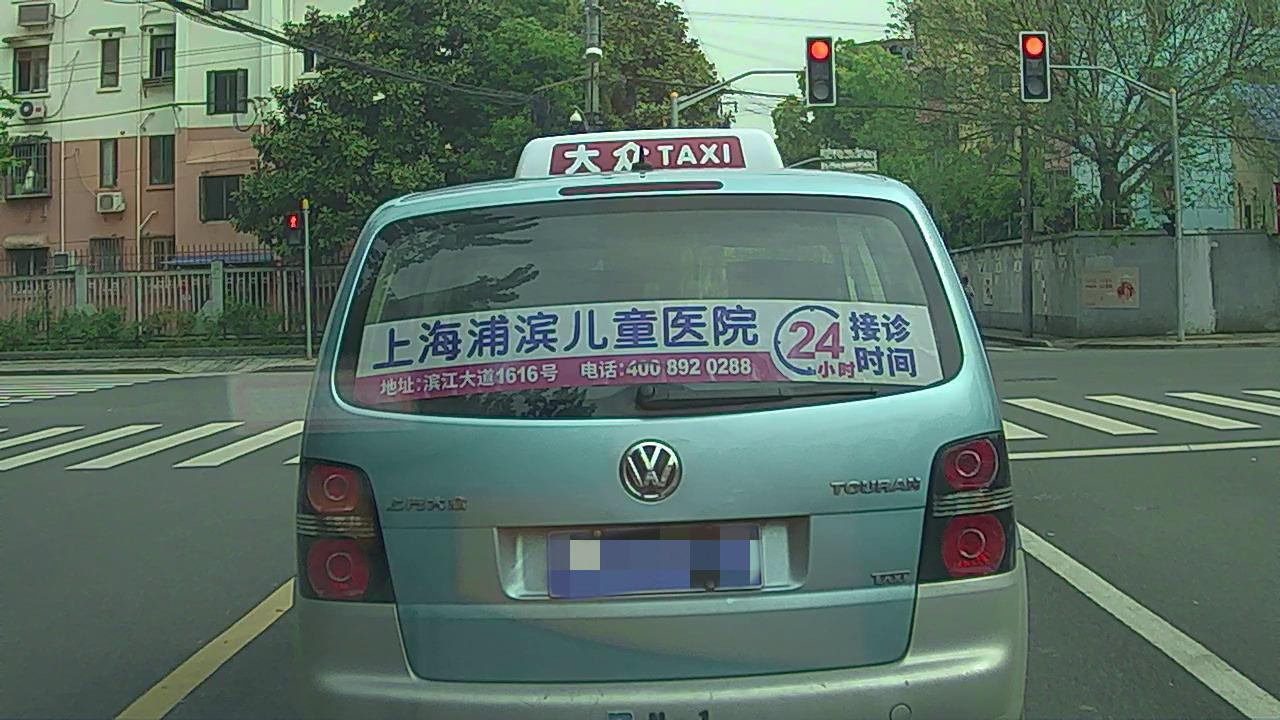traffic_light: (807, 34, 834, 106), (1023, 34, 1048, 100)
